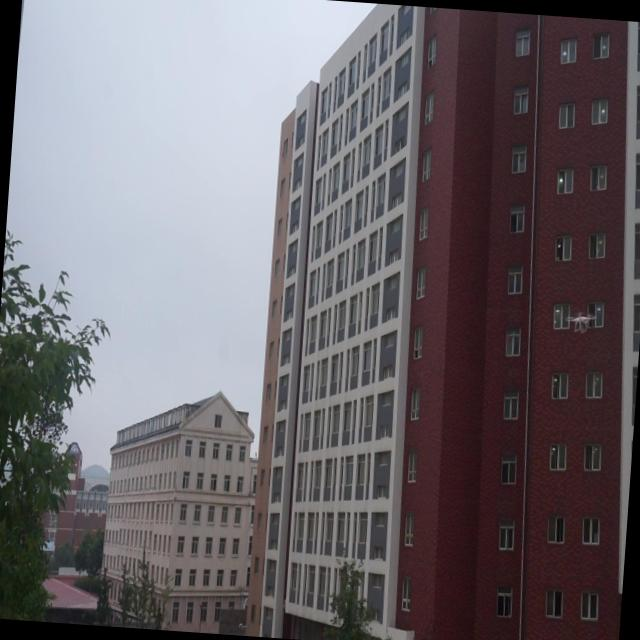drone: (563, 304, 597, 338)
